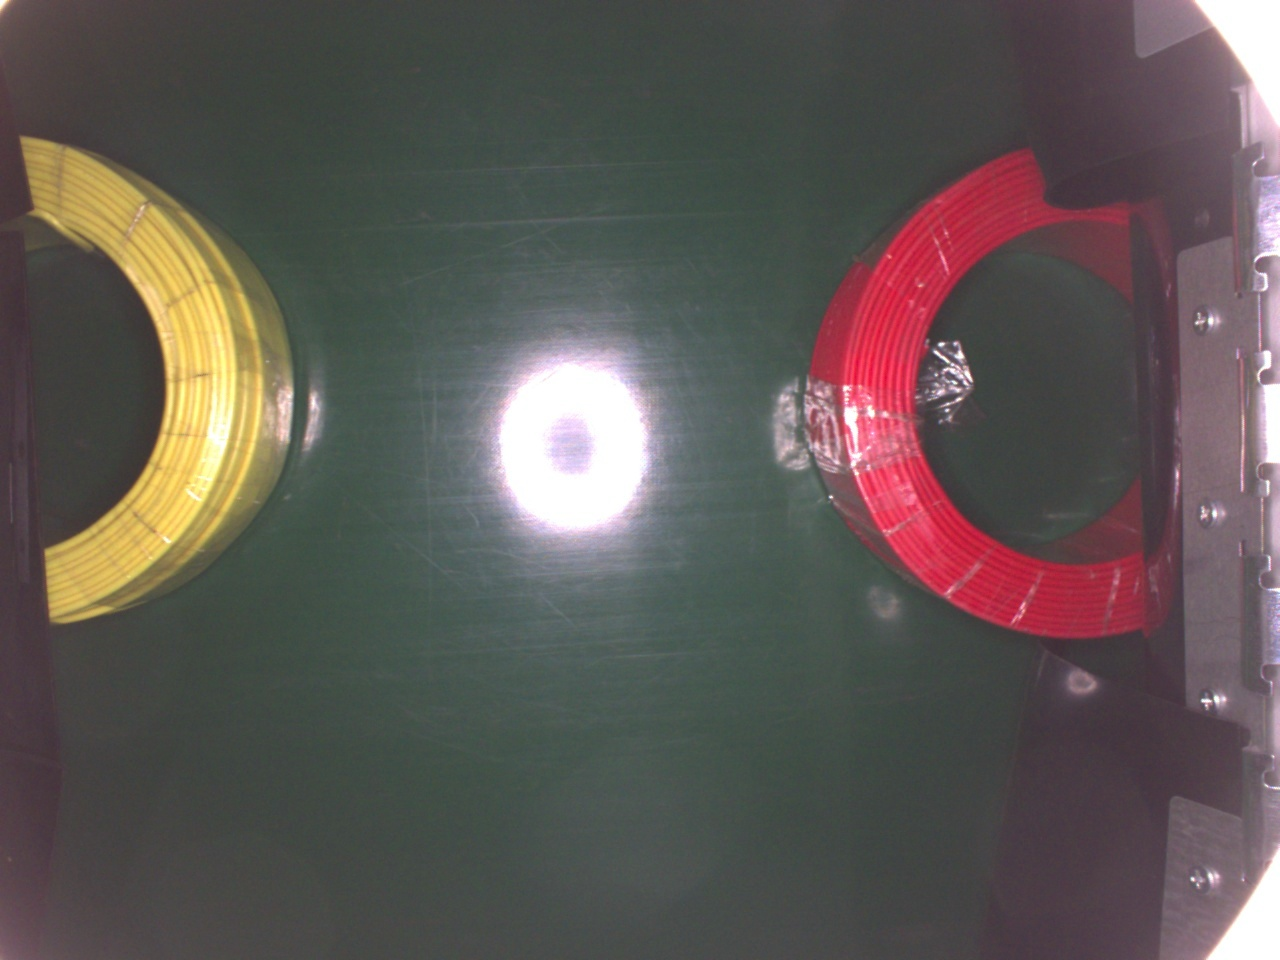red: (795, 147, 1172, 641)
yellow: (23, 127, 294, 625)
